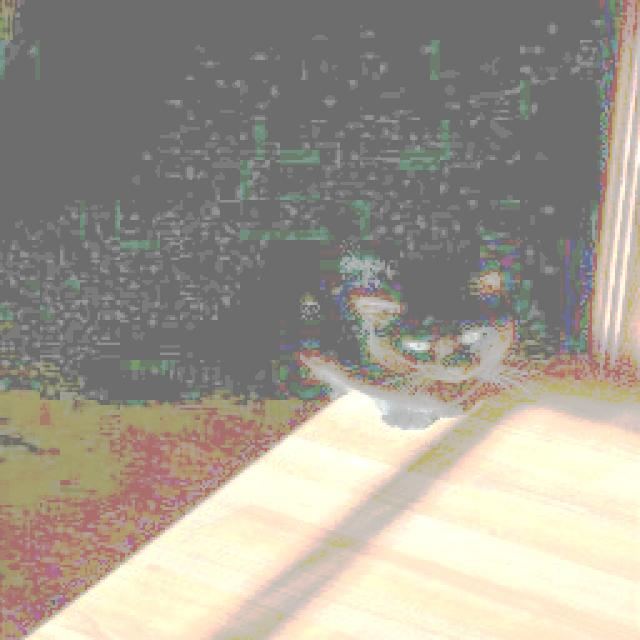cat: (298, 231, 519, 435)
